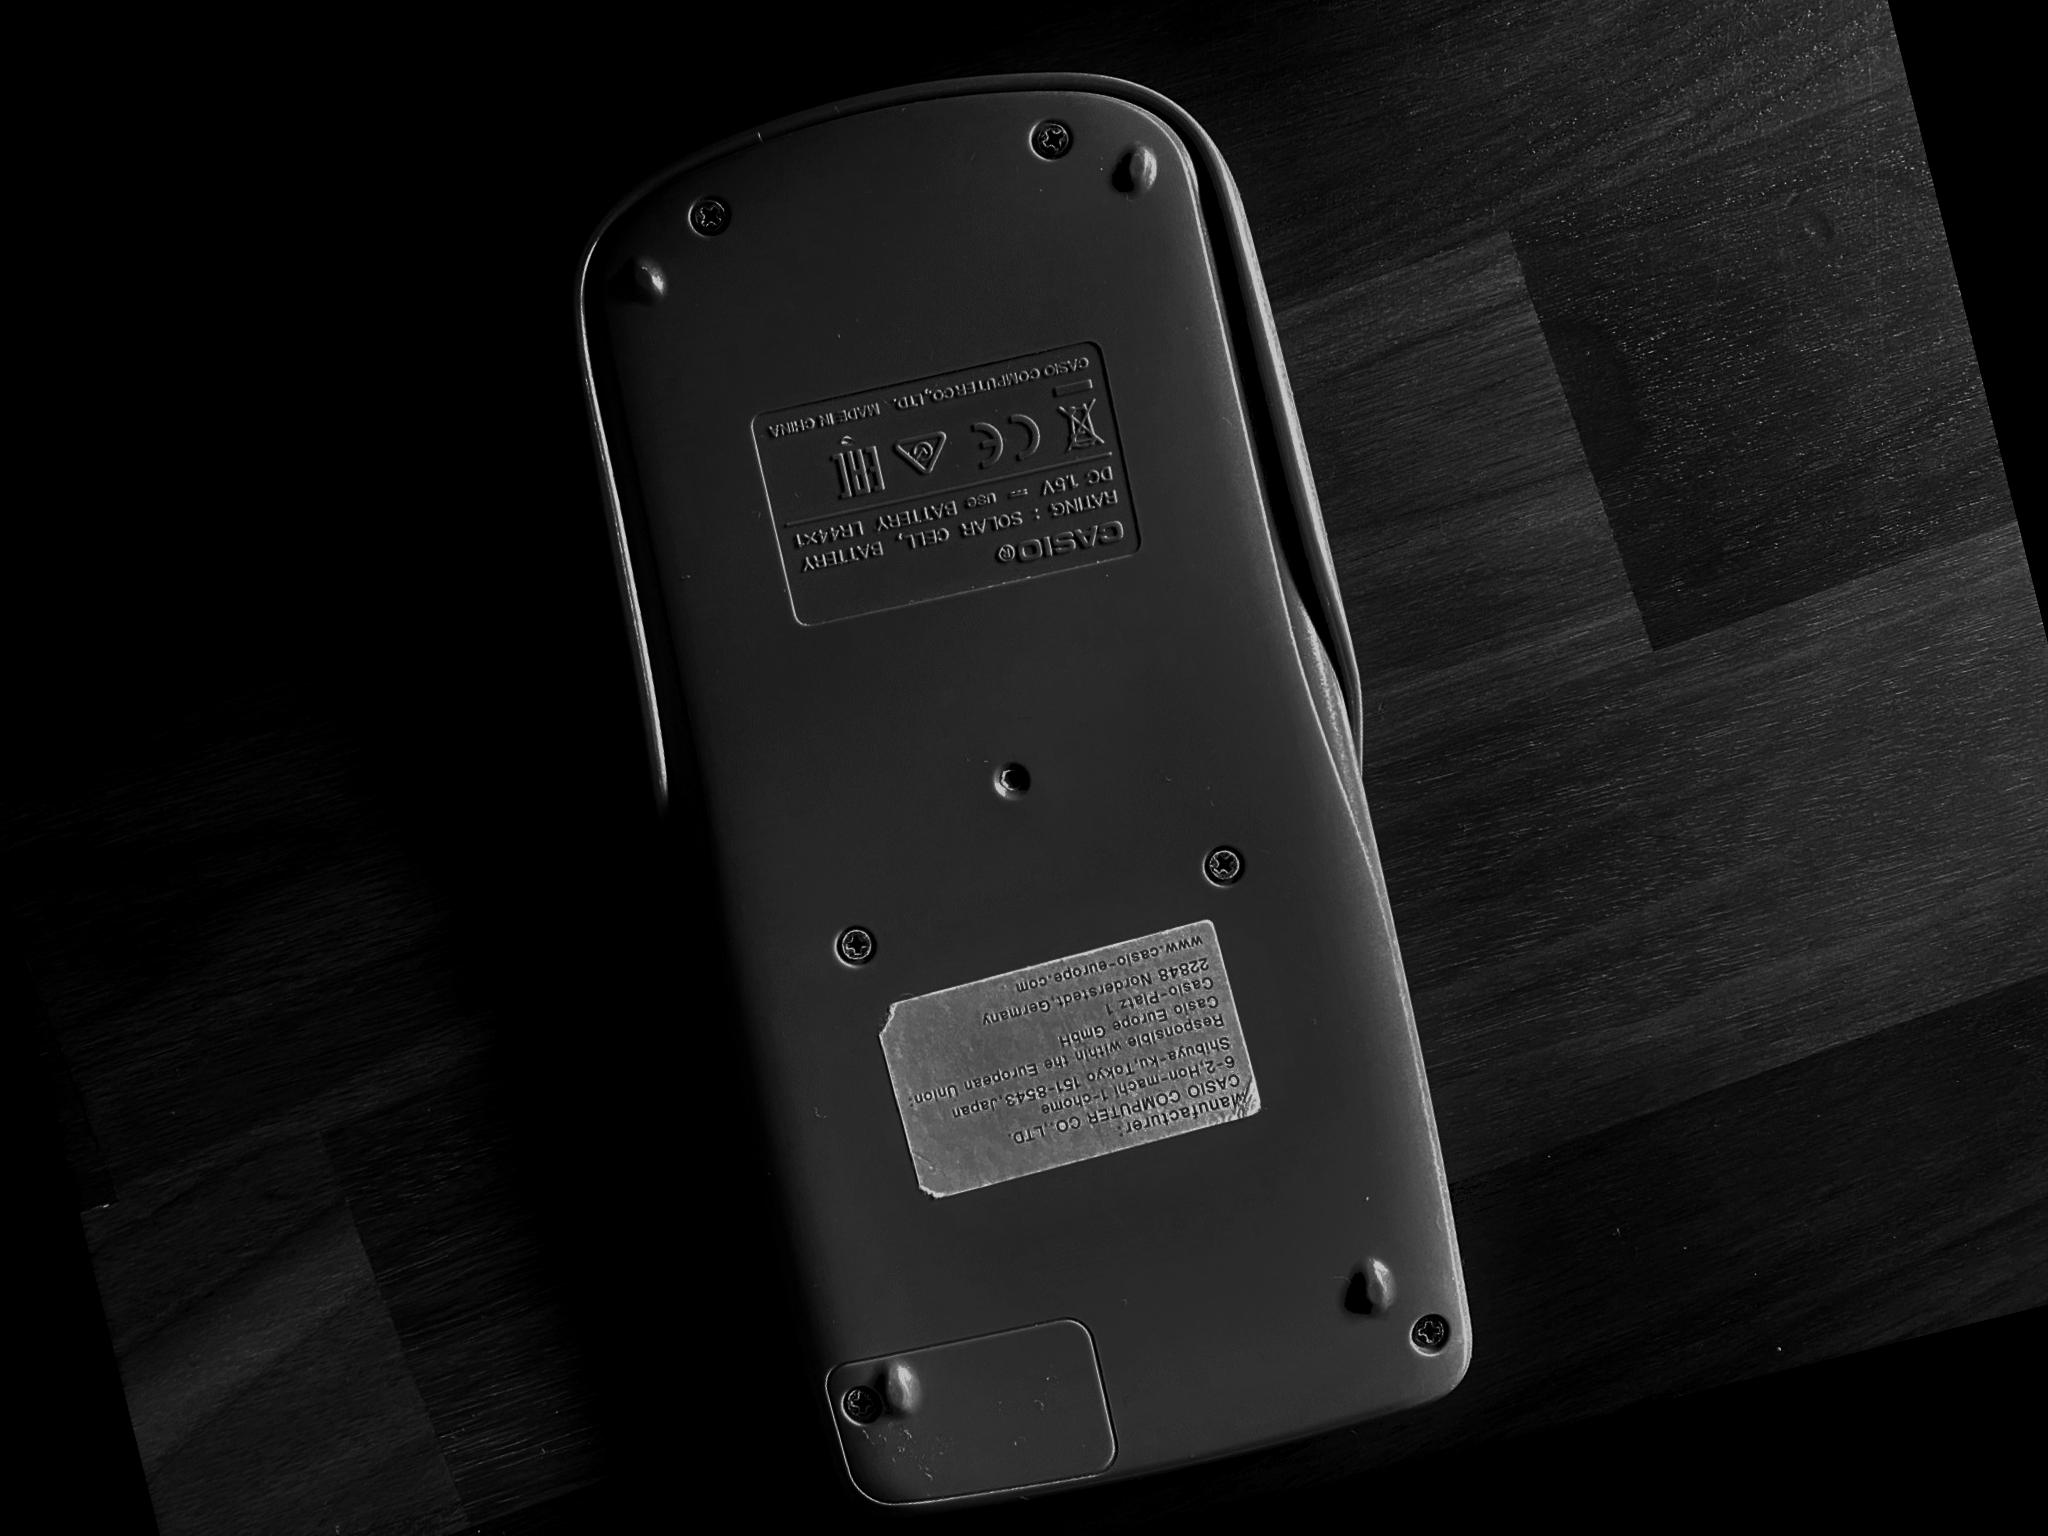philips-PZ: (1405, 1309, 1458, 1355), (835, 1379, 884, 1430), (1027, 115, 1077, 163), (684, 190, 734, 239), (830, 921, 880, 966), (1201, 844, 1247, 887)
